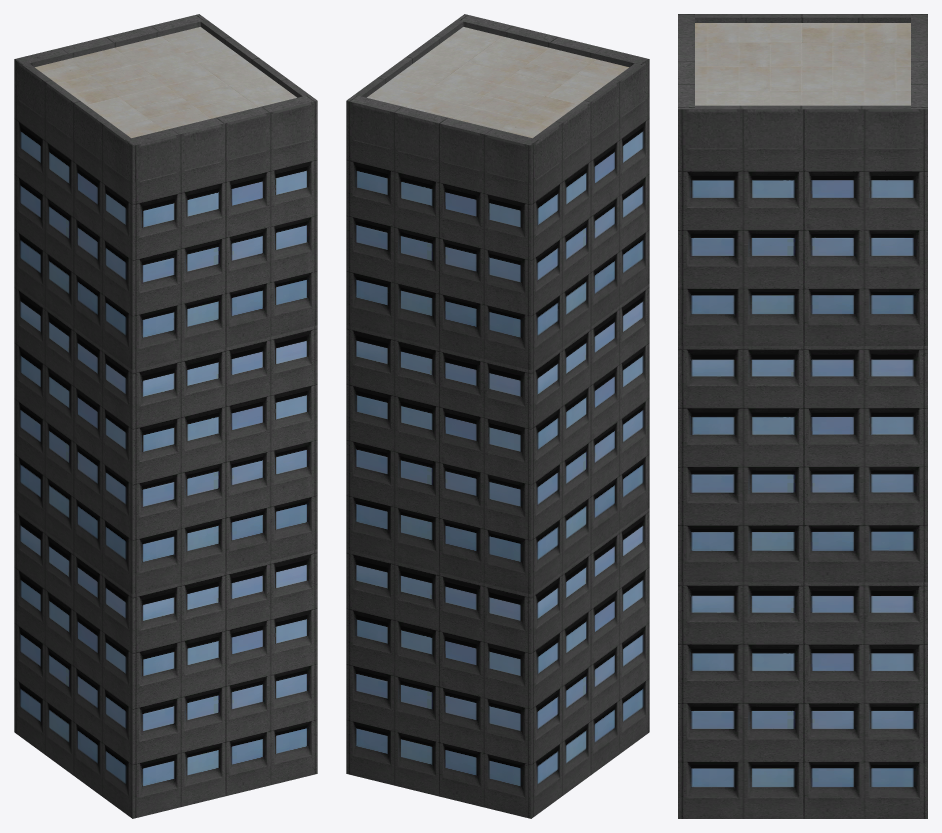
Rendered from Pizza_Delivery 2.fbx.
3 views of the same model, side by side, from view 1: azimuth 30°, elevation 25°; view 2: azimuth 150°, elevation 25°; view 3: azimuth 270°, elevation 25° (orthographic). The views are drawn at different scales.
Visible parts, largest first — view 1: Pizza_Delivery:Pizza_Delivery:house2_1; view 2: Pizza_Delivery:Pizza_Delivery:house2_1; view 3: Pizza_Delivery:Pizza_Delivery:house2_1.
Boxes of the visible parts, left/top/right/bottom form: Pizza_Delivery:Pizza_Delivery:house2_1: left=14, top=14, right=317, bottom=818; Pizza_Delivery:Pizza_Delivery:house2_1: left=346, top=14, right=649, bottom=818; Pizza_Delivery:Pizza_Delivery:house2_1: left=678, top=14, right=927, bottom=818.
Bounding box in the file's own units: 11 × 38.23 × 12.2.
